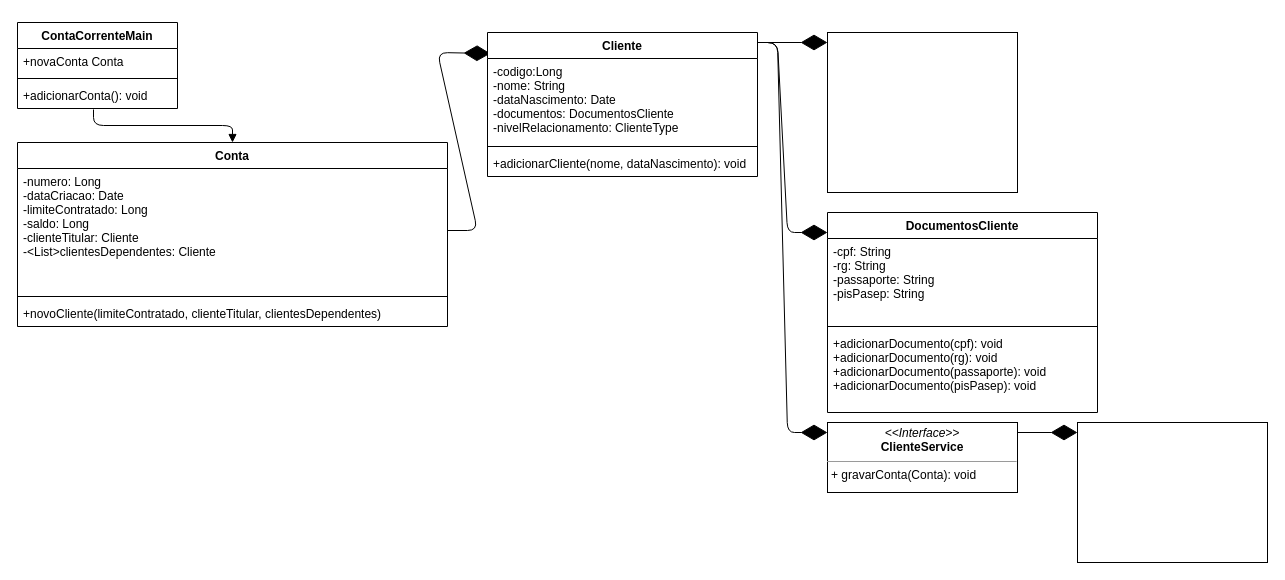
Image size: 1285x580. Some labels were removed from this diagram. Here are the shapes that lost their labels. From the top down, the centre of each, then its label:
At point 922,112: "<<Interface>> ClienteType +titular +conjuge +filho +pai +mae".
At point 1172,492: "<<Interface>> ClienteServiceImpl +conta: Conta +gravarConta(Conta): void".
